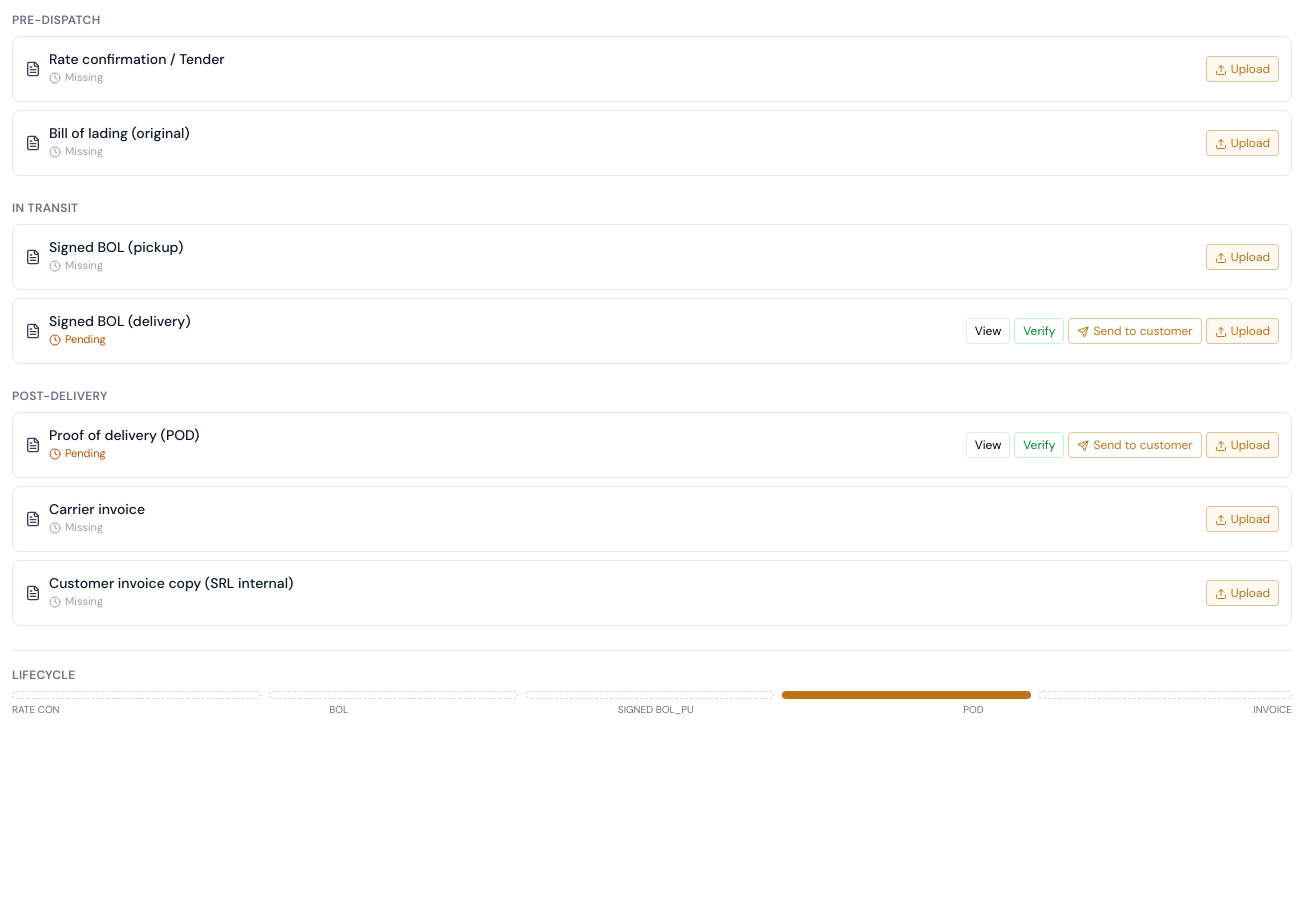
Test: T&T DocsTab — sending delivery evidence to the customer is a deliberate act › the signed delivery BOL row sends its own document, asks about it by name, and the note lands on its row
Click the button "Send to customer" in the row of "Signed BOL (delivery)" at (1135, 331), box [1068,318,1202,344]
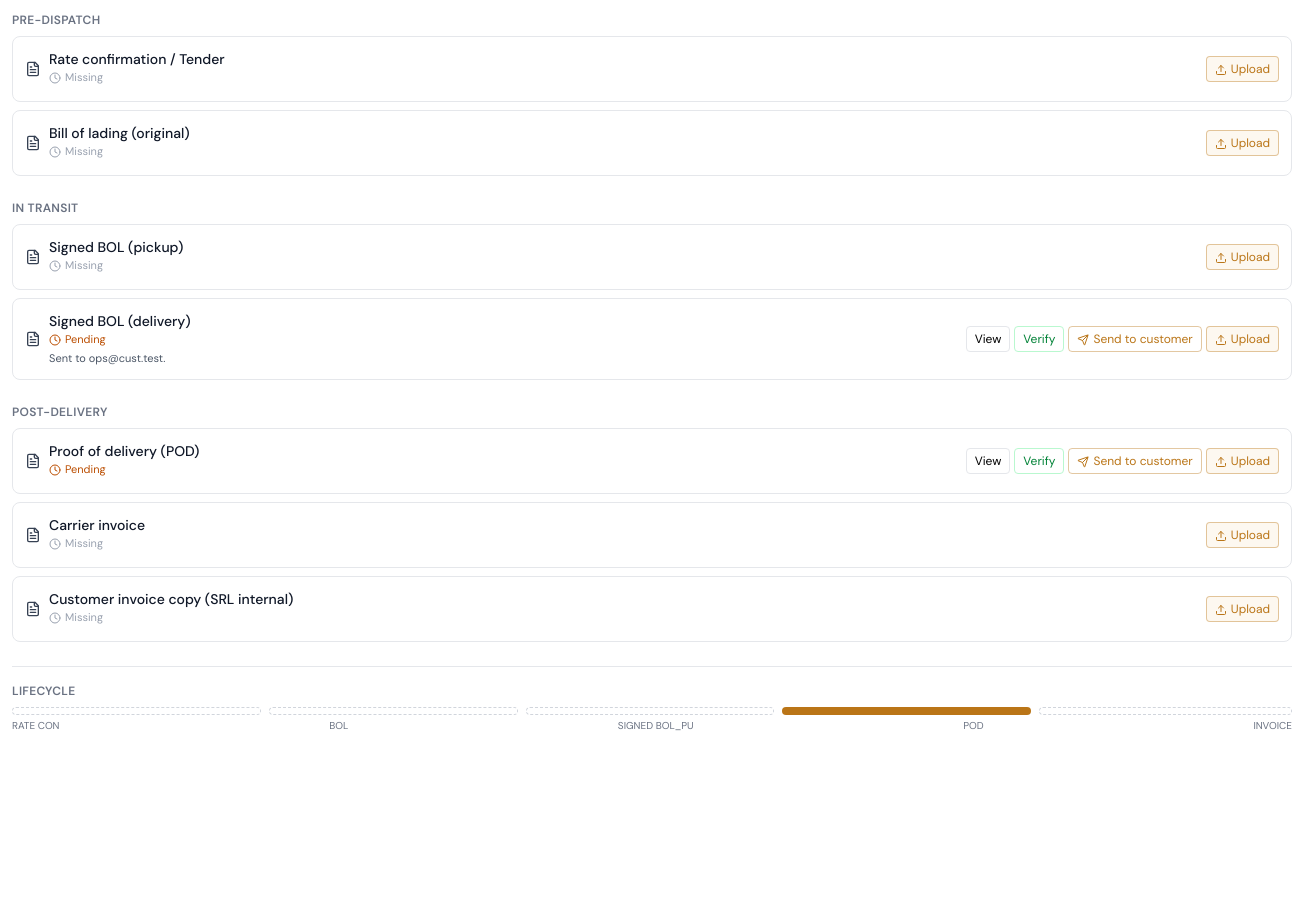
Check: the text "Proof of delivery (POD)" does not show "Sent to"
Check: the text "Signed BOL (delivery)" shows "Sent to ops@cust.test.", box [49,351,165,365]
